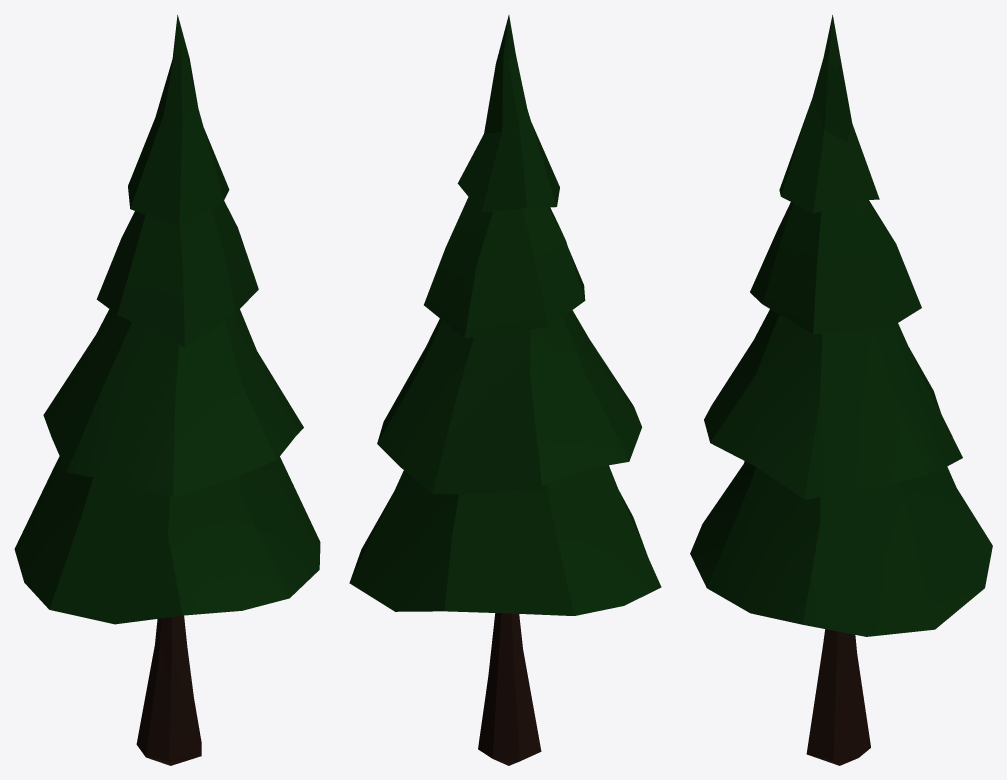
The model's file is pino_1.FBX.
3 renders of one model, left to right at view 1: azimuth 30°, elevation 25°; view 2: azimuth 150°, elevation 25°; view 3: azimuth 270°, elevation 25°, orthographic.
Parts seen in each view (by area): view 1: pCylinder3; view 2: pCylinder3; view 3: pCylinder3.
Boxes of the visible parts, left/top/right/bottom form: pCylinder3: left=14, top=15, right=320, bottom=765; pCylinder3: left=349, top=15, right=661, bottom=765; pCylinder3: left=690, top=15, right=992, bottom=765.
Bounding box in the file's own units: 2.81 × 7.43 × 2.71.
